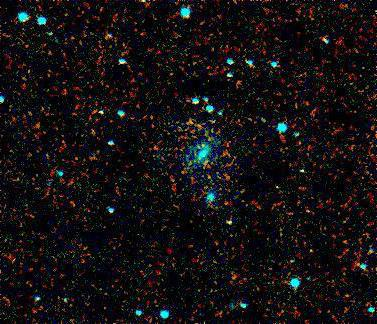star: (175, 105, 205, 135)
